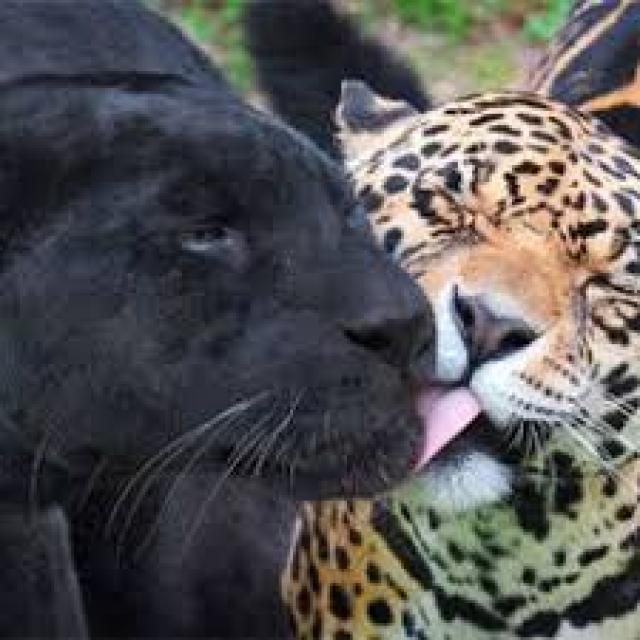Jaguar: (0, 0, 449, 506), (324, 77, 640, 640)
